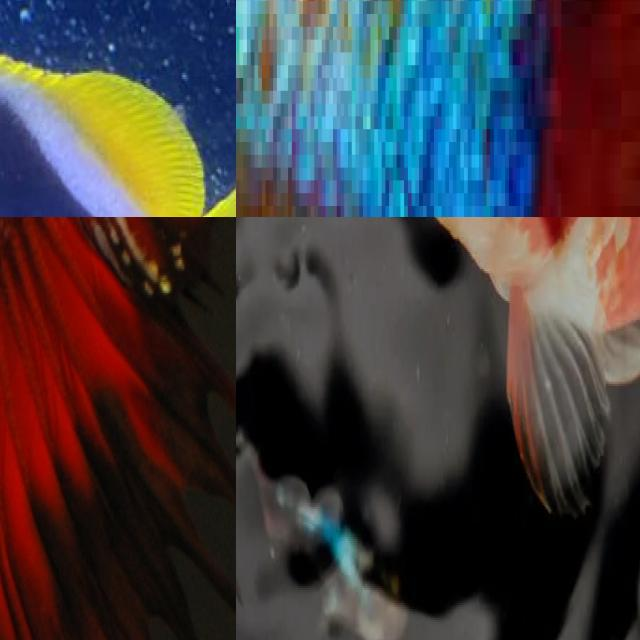fish: (236, 217, 502, 640), (0, 217, 236, 640), (236, 0, 535, 217), (0, 0, 236, 217)
